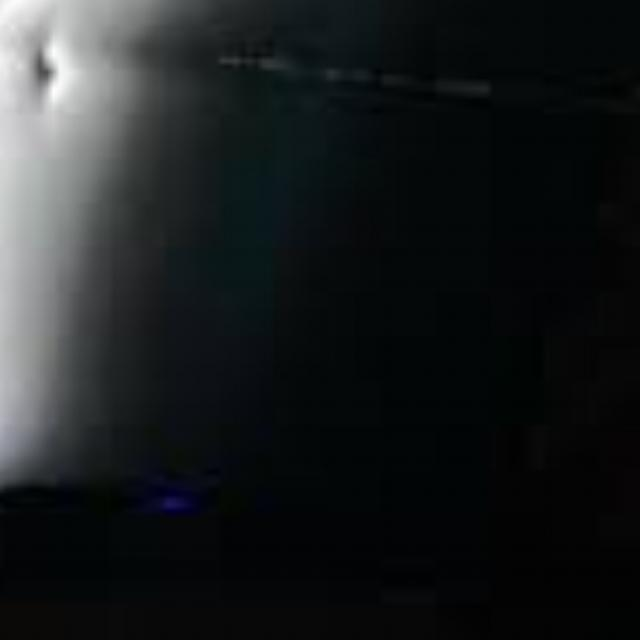dents: (16, 13, 108, 144)
